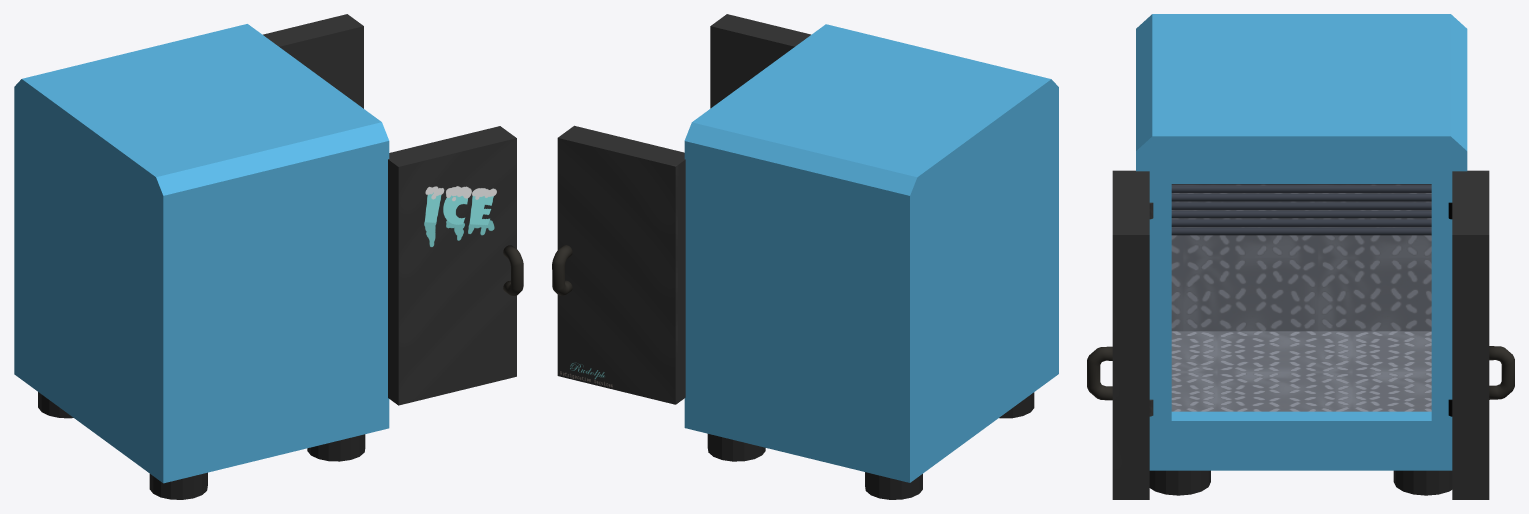
File: IceFreezer.fbx
The picture shows the model from 3 angles, left to right: view 1: azimuth 30°, elevation 25°; view 2: azimuth 150°, elevation 25°; view 3: azimuth 270°, elevation 25°; orthographic projection. The views are drawn at different scales.
Visible parts, largest first — view 1: Lip, Door L, Door R; view 2: Lip, Door R, Door L; view 3: Lip, Door R, Door L.
Boxes of the visible parts, box(x1,y1,x2,y2) form: Lip: box(14, 24, 389, 499); Door L: box(388, 126, 523, 405); Door R: box(263, 14, 363, 108); Lip: box(684, 24, 1058, 499); Door R: box(552, 125, 685, 404); Door L: box(710, 14, 810, 108); Lip: box(1136, 14, 1467, 495); Door R: box(1448, 170, 1514, 499); Door L: box(1087, 170, 1153, 499).
Size of the model in its own units: 304 by 277 by 295.
13 materials, 4 textured.
